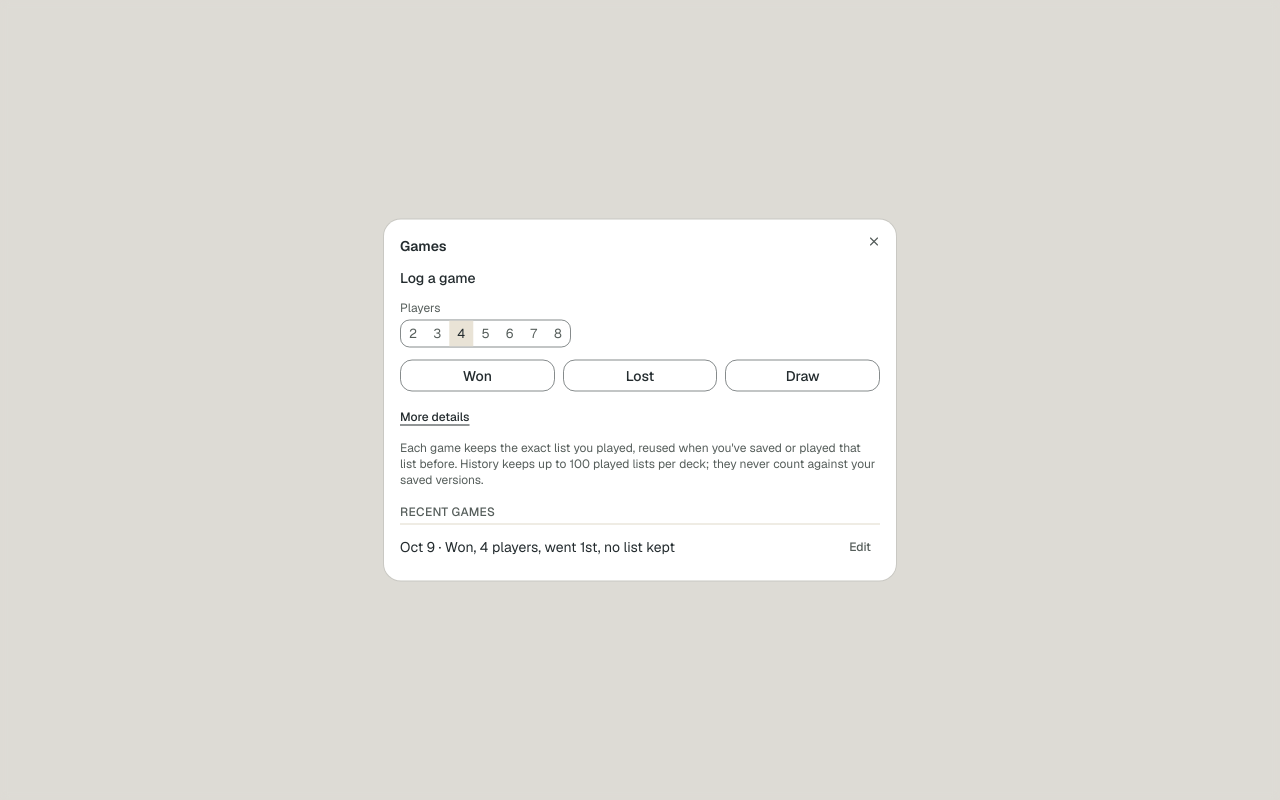
GamesDialog — the recent games, named and editable (Y10) › a game logged with no list kept says the edit can't change that
This screenshot has width=1280, height=800.
Check: the list is shown, box top-left (400, 528), bottom-right (880, 564)
Click the button "Edit" at (860, 546), box top-left (840, 534), bottom-right (880, 558)
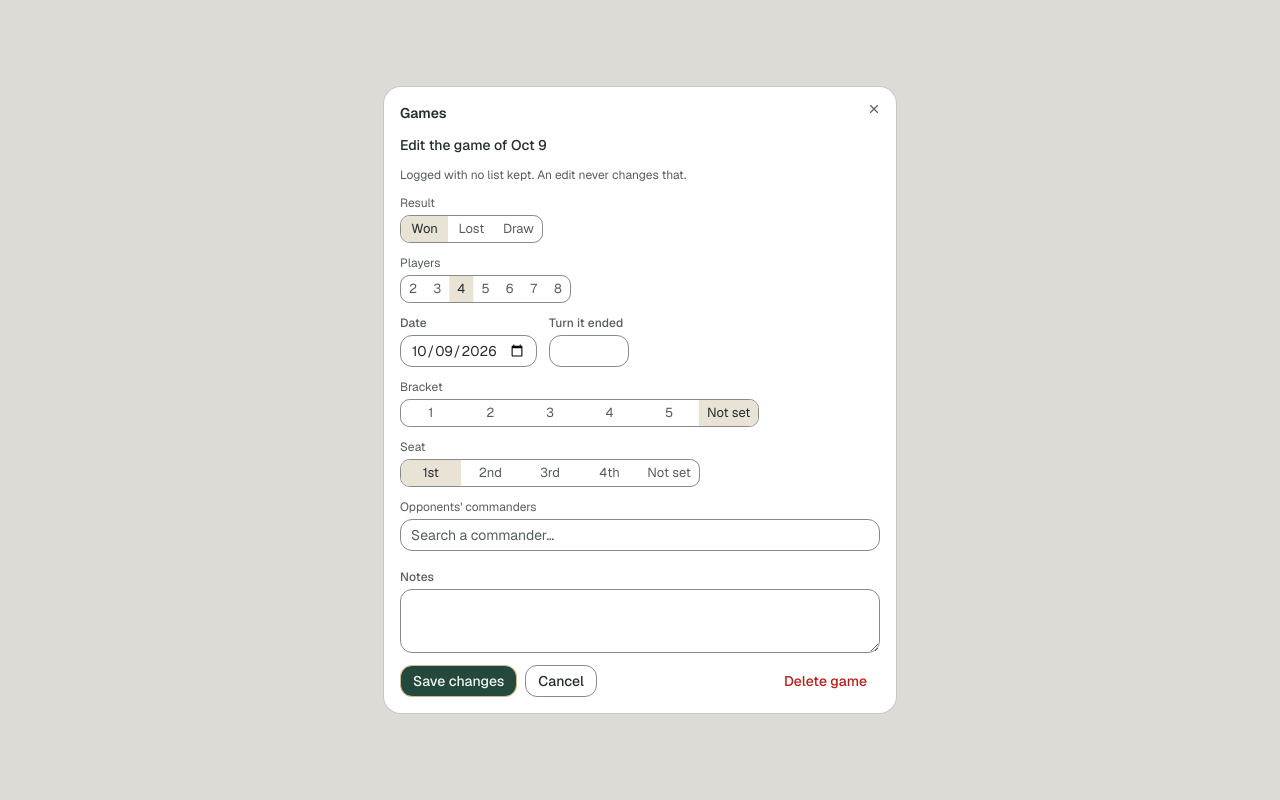
Check: the element "Edit the game of" shows "Logged with no list kept. An edit never changes that.", box top-left (400, 167), bottom-right (686, 183)
